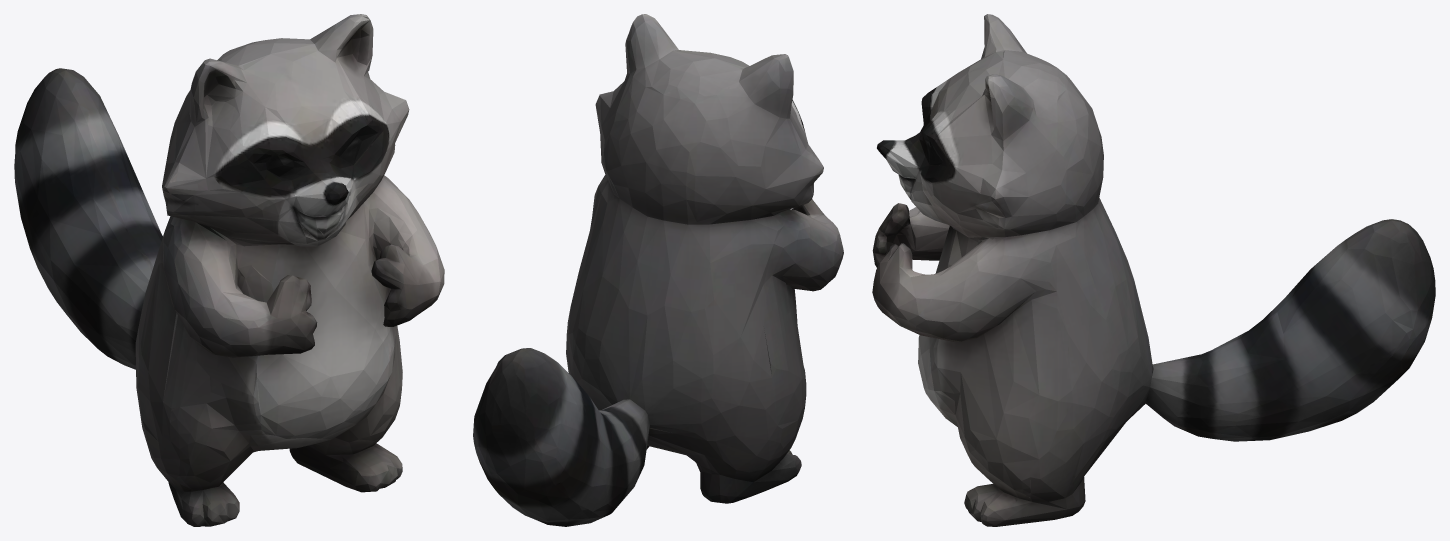
Rendered from raccoon.glb.
The picture shows the model from 3 angles, left to right: view 1: azimuth 30°, elevation 25°; view 2: azimuth 150°, elevation 25°; view 3: azimuth 270°, elevation 25°; orthographic projection. The views are drawn at different scales.
Visible parts, largest first — view 1: geometry_0; view 2: geometry_0; view 3: geometry_0.
Part boxes in pixels (left/top/right/bottom): geometry_0: left=14, top=14, right=444, bottom=526; geometry_0: left=473, top=14, right=843, bottom=526; geometry_0: left=872, top=14, right=1435, bottom=526.
Size of the model in its own units: 0.4776 by 0.863 by 0.9987.
Materials: 1 (1 with a texture image).
